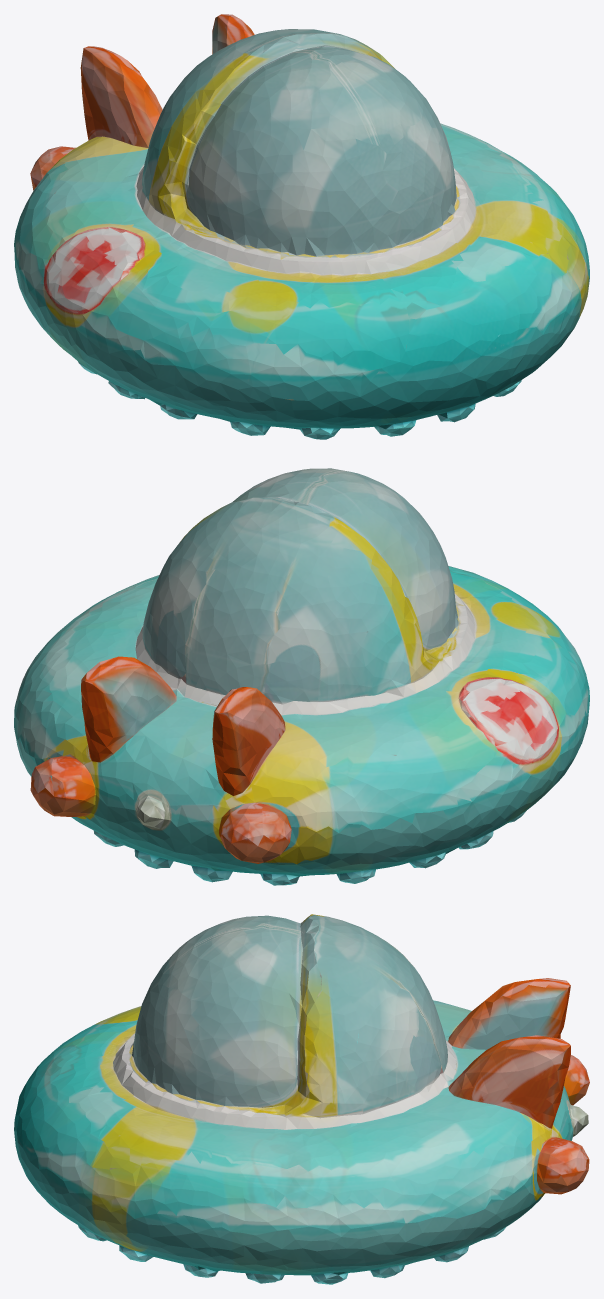
Rendered from car.glb.
3 renders of one model, top to bottom at view 1: azimuth 30°, elevation 25°; view 2: azimuth 150°, elevation 25°; view 3: azimuth 270°, elevation 25°, orthographic. The views are drawn at different scales.
Visible parts, largest first — view 1: geometry_0; view 2: geometry_0; view 3: geometry_0.
Boxes of the visible parts, x1,y1,x2,y2 form: geometry_0: (14,14,589,439); geometry_0: (14,468,589,885); geometry_0: (14,914,589,1284).
Size of the model in its own units: 0.9015 by 0.5629 by 1.
1 material, 1 textured.
